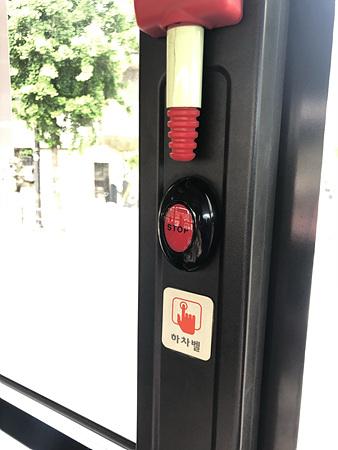bell: (160, 176, 220, 271)
